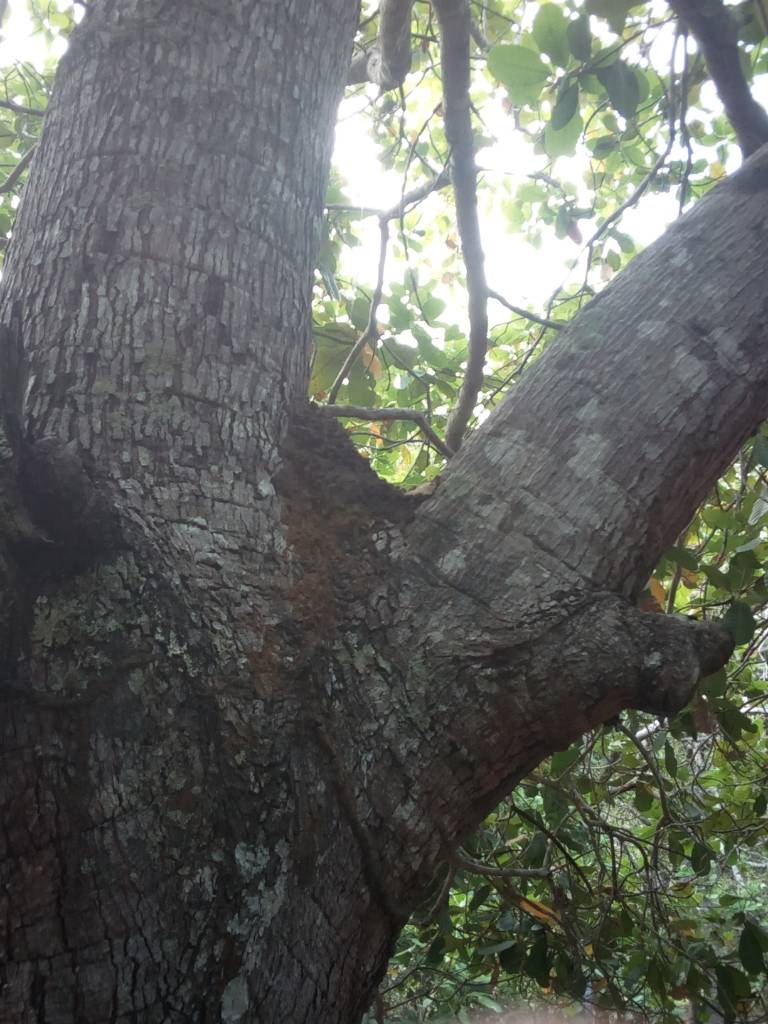Termites: (277, 396, 390, 641)
